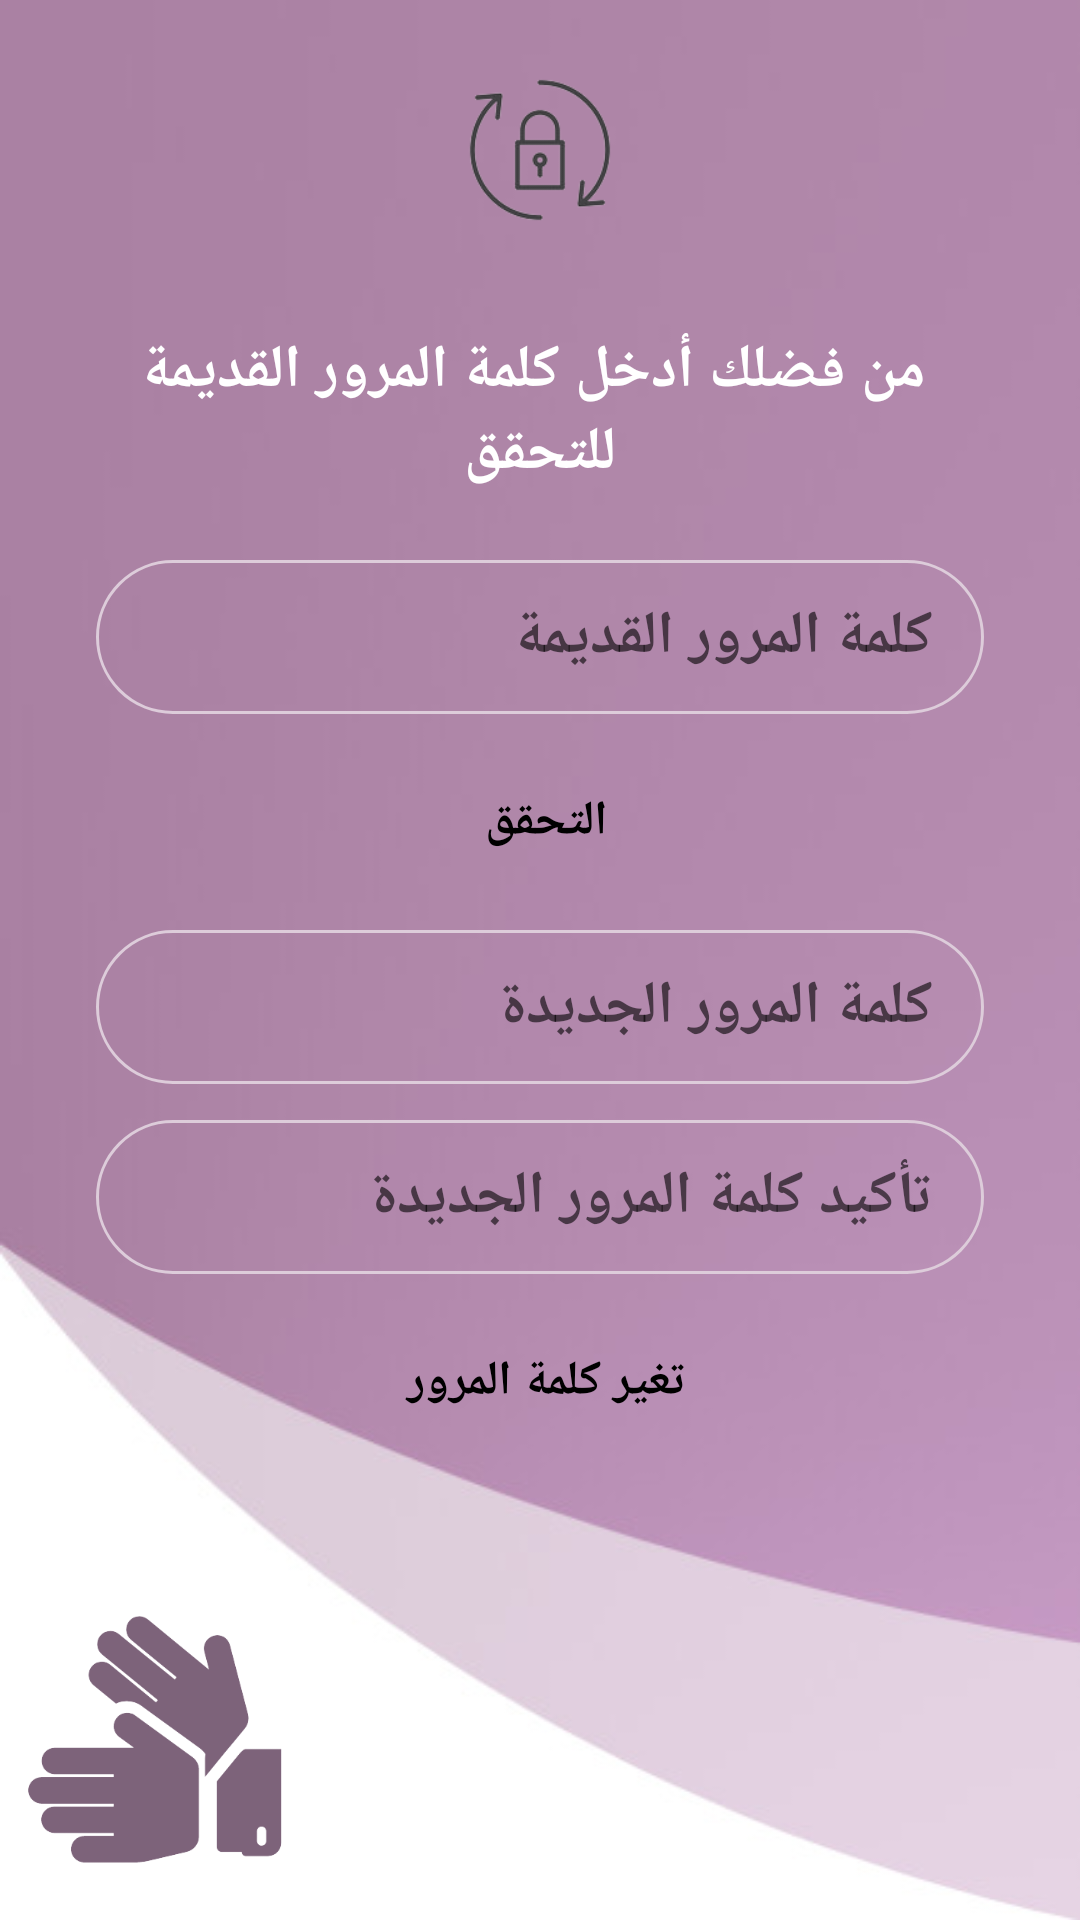

Screen size 1080×1920. Icon name, then its box in pixels as (x1, y1, x2, y2):
changepass: (470, 80, 610, 220)
